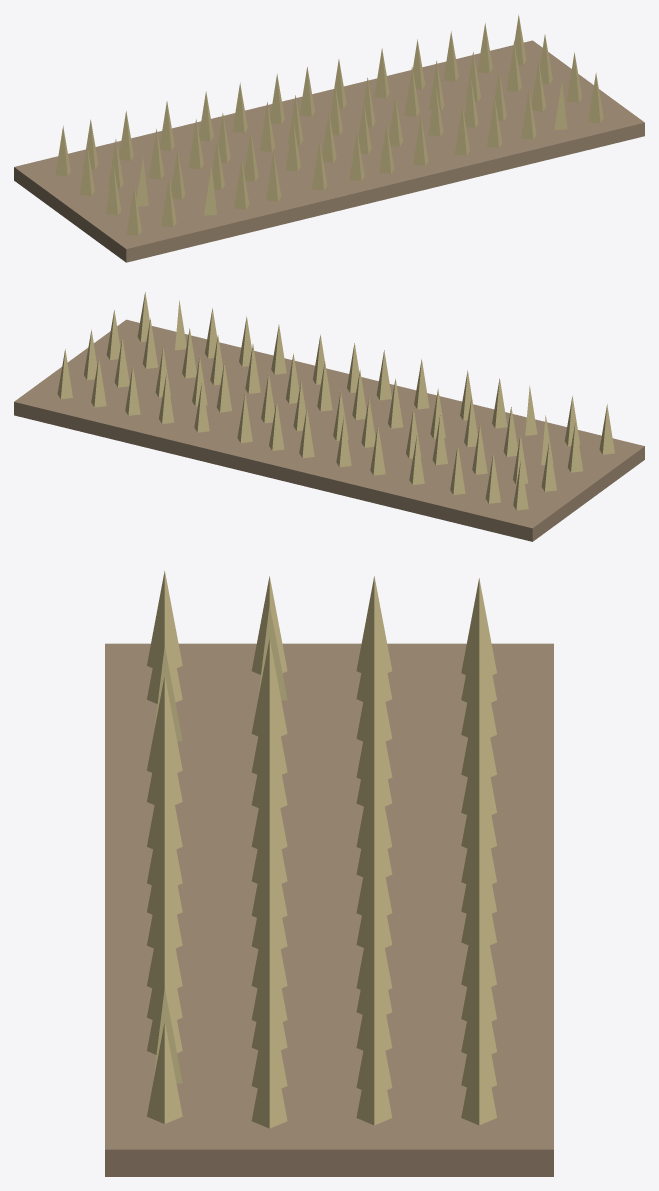
File: terrace_wheat_field_lod1.glb
The picture shows the model from 3 angles, top to bottom: view 1: azimuth 30°, elevation 25°; view 2: azimuth 150°, elevation 25°; view 3: azimuth 270°, elevation 25°; orthographic projection. The views are drawn at different scales.
Visible parts, largest first — view 1: m; view 2: m; view 3: m.
Part boxes in pixels (x1,y1,x2,y2): m: (14, 14, 644, 262); m: (14, 292, 644, 541); m: (105, 570, 553, 1176).
Bounding box in the file's own units: 8 × 0.9053 × 3.
